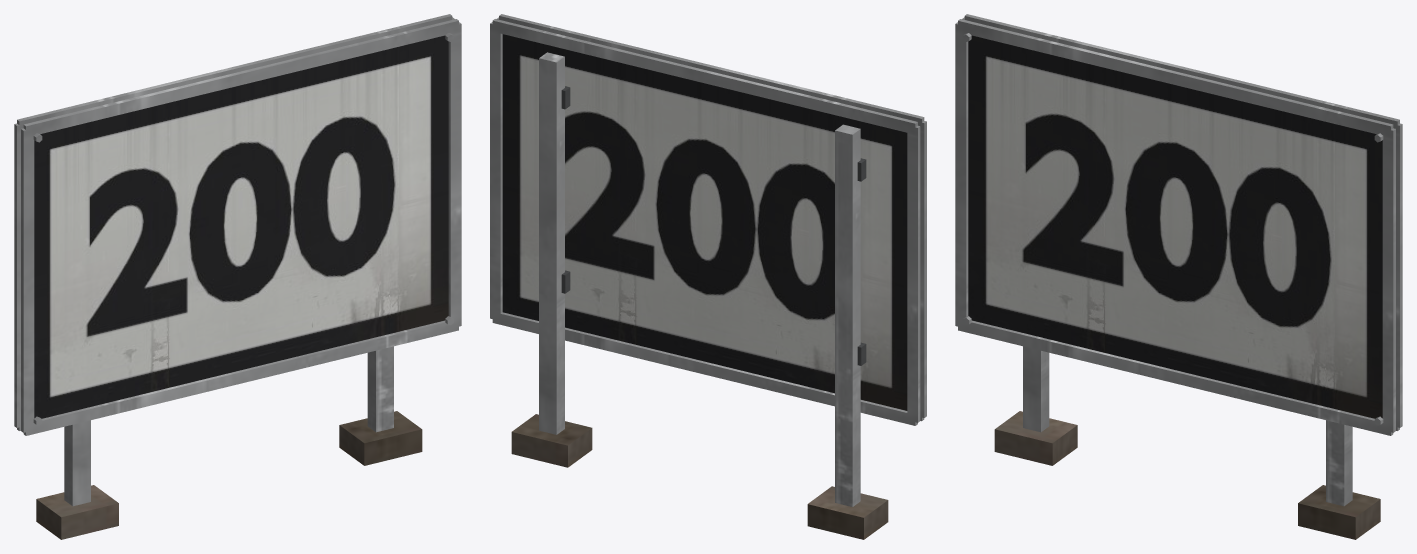
The model's file is board_200.glb.
3 renders of one model, left to right at view 1: azimuth 30°, elevation 25°; view 2: azimuth 150°, elevation 25°; view 3: azimuth 330°, elevation 25°, orthographic. The views are drawn at different scales.
Parts seen in each view (by area): view 1: board_200; view 2: board_200; view 3: board_200.
Part boxes in pixels (x1,y1,x2,y2): board_200: (14, 14, 461, 539); board_200: (490, 14, 926, 539); board_200: (955, 14, 1402, 539).
Bounding box in the file's own units: 1.21 × 1.12 × 0.136.
Materials: 4 (4 with a texture image).
